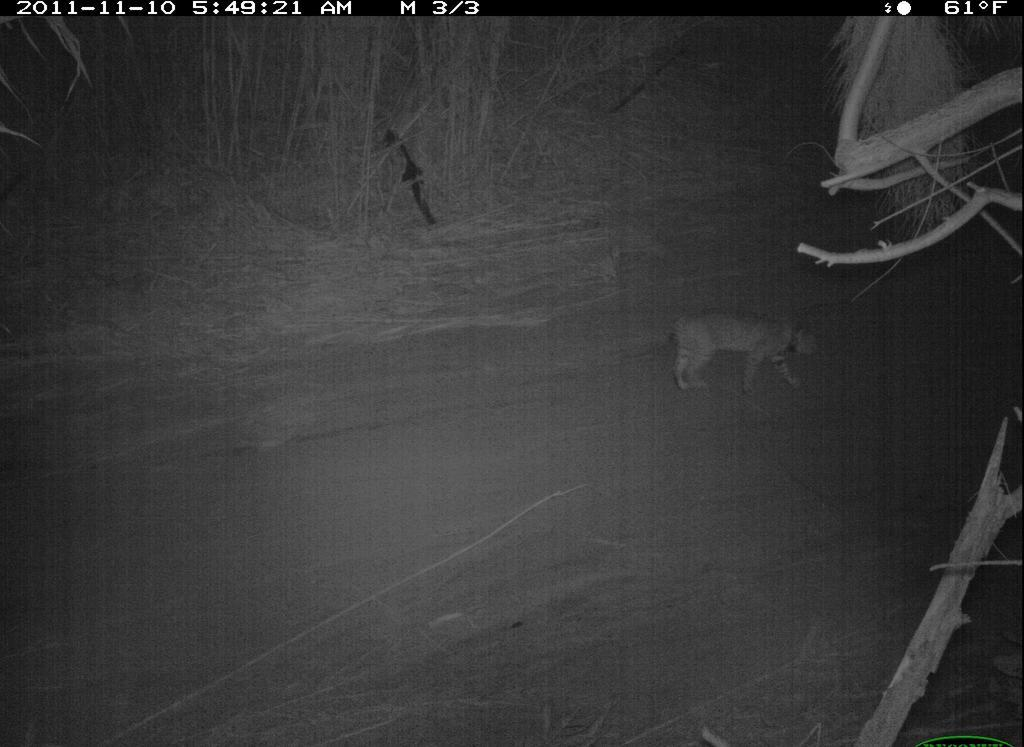bobcat: (647, 303, 830, 408)
